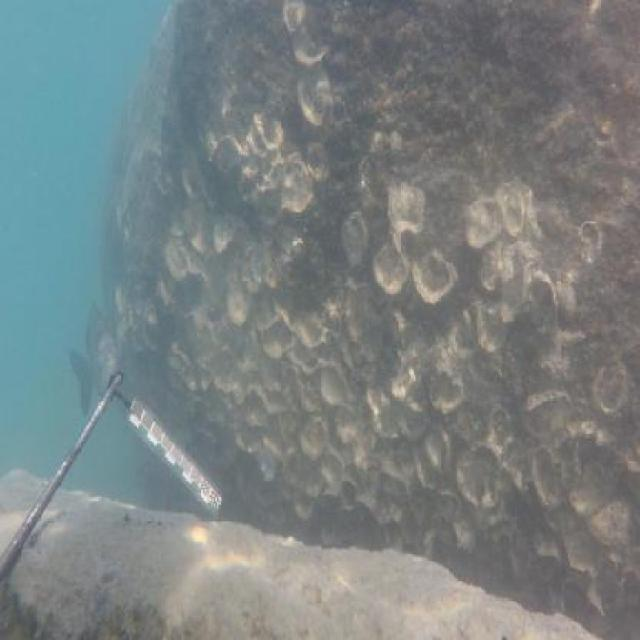acanthopagrus_palmaris: (73, 302, 119, 422)
